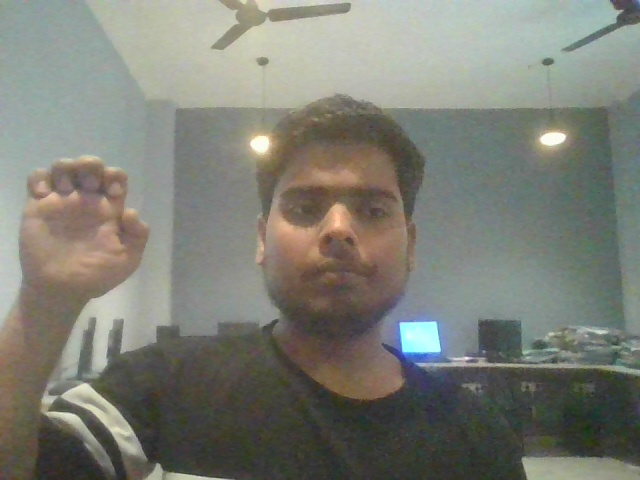C: (12, 142, 176, 339)
